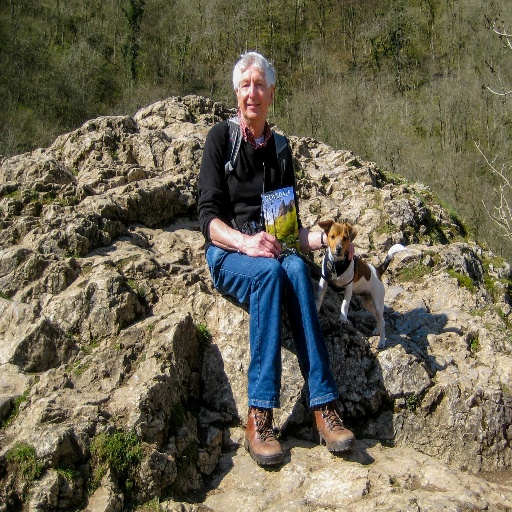hand: (242, 227, 281, 258), (344, 240, 356, 263)
